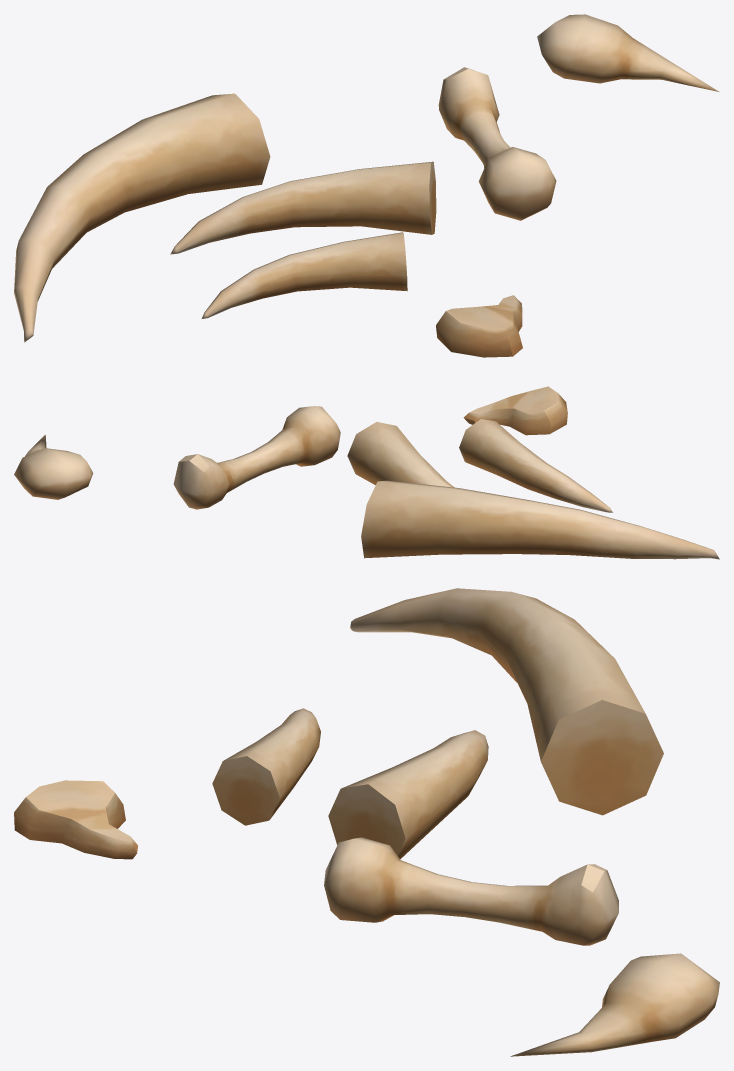
Rendered from Stage_ShaMo_GuTou05.FBX.
3 views of the same model, one above another, from view 1: azimuth 30°, elevation 25°; view 2: azimuth 150°, elevation 25°; view 3: azimuth 270°, elevation 25° (orthographic). The views are drawn at different scales.
Visible parts, largest first — view 1: Stage_ShaMo_GuTou05; view 2: Stage_ShaMo_GuTou05; view 3: Stage_ShaMo_GuTou05.
Part boxes in pixels (x1,y1,x2,y2): Stage_ShaMo_GuTou05: (14,14,718,357); Stage_ShaMo_GuTou05: (14,386,719,559); Stage_ShaMo_GuTou05: (14,588,719,1056).
Bounding box in the file's own units: 468 × 58.04 × 312.
